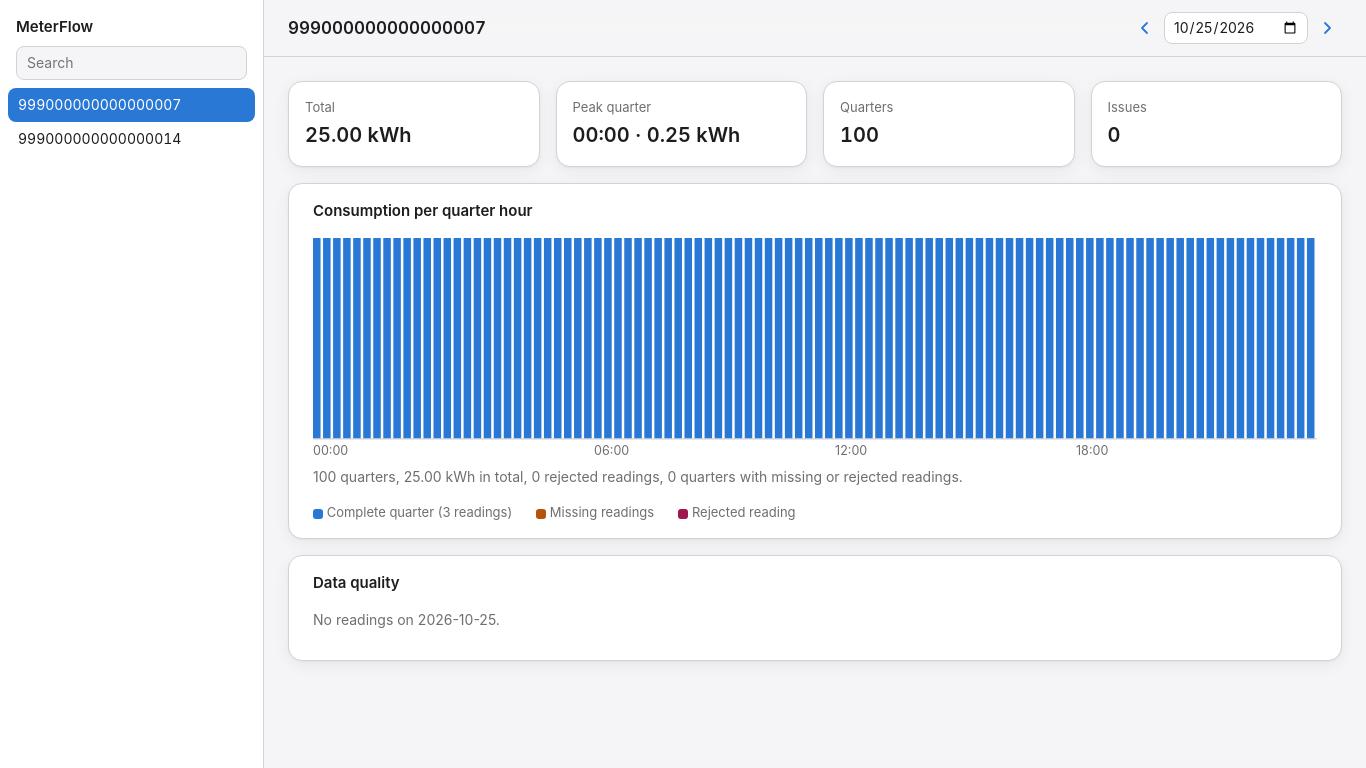
Test: App › moves one day back and forward with the day buttons
Expected: the icon named "100 quarters" is shown, [313,238,1317,459]
Click the button named "Next day" at [1327, 28], box [1312,13,1342,43]
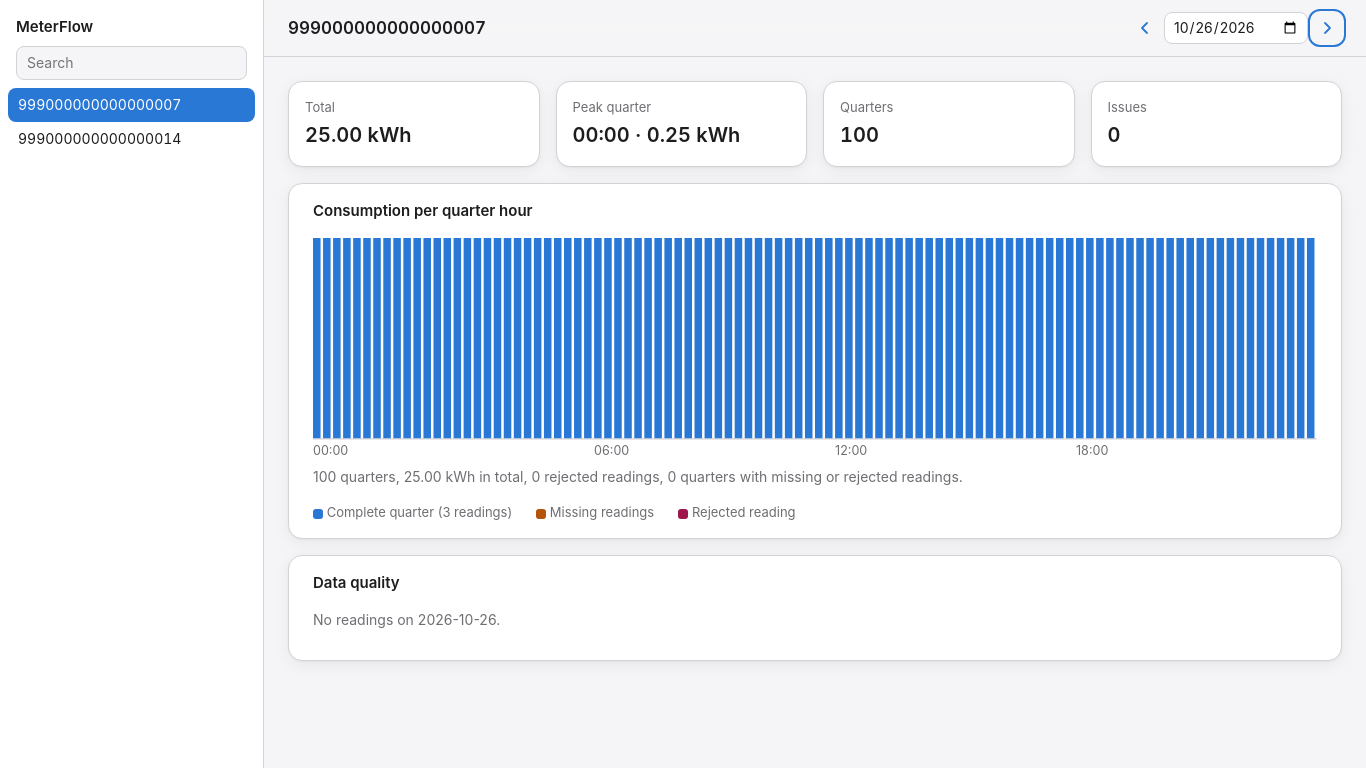
Expected: the date field named "Day" holds "2026-10-26", [1164,12,1308,44]
Click the button named "Previous day" at [1145, 28], box [1130,13,1160,43]
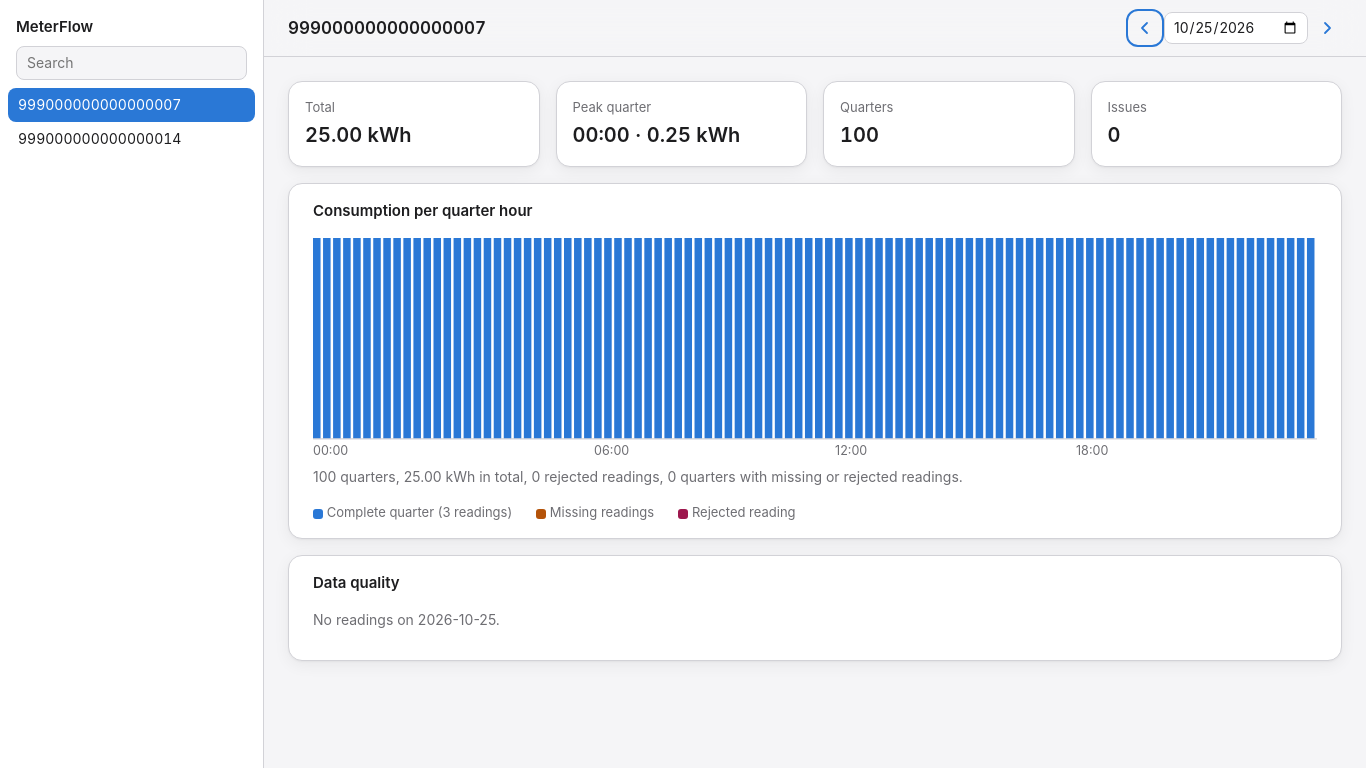
Click the button named "Previous day" at [1145, 28], box [1130,13,1160,43]
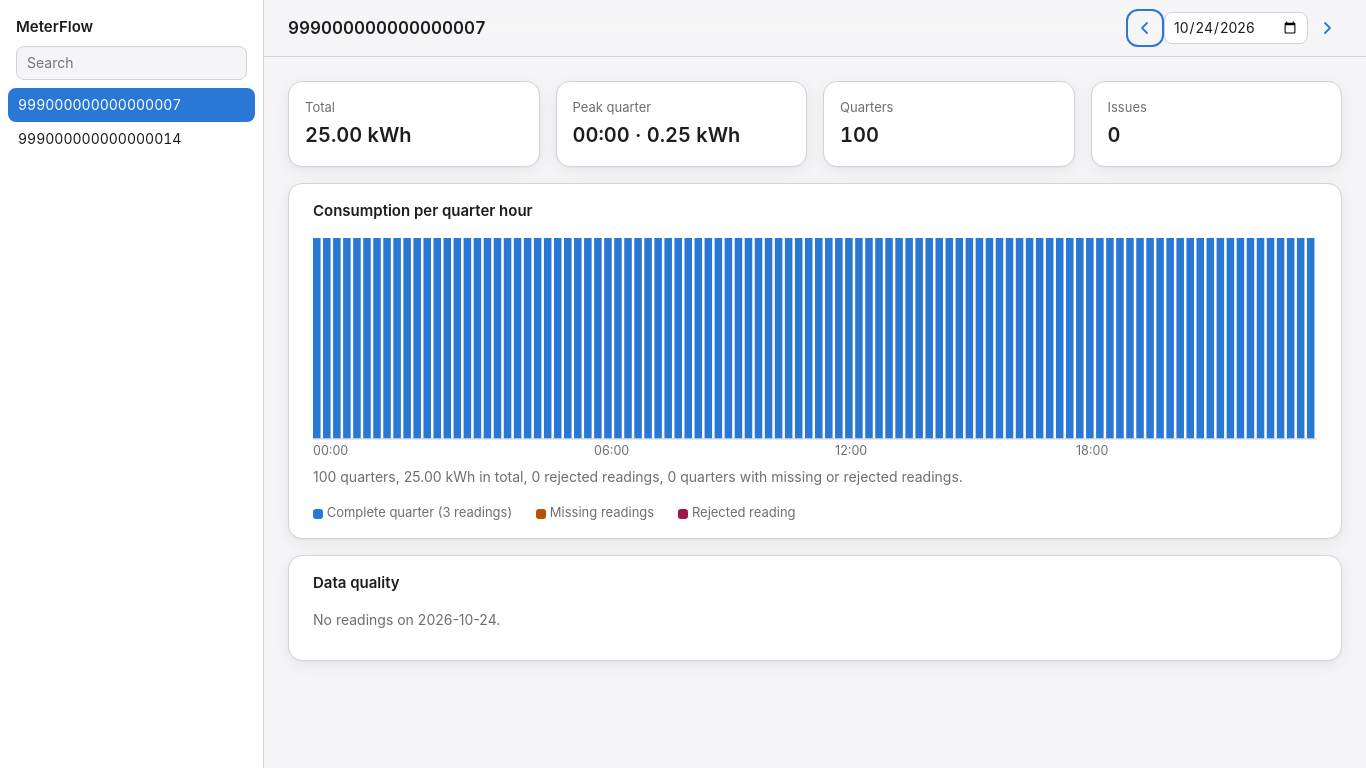
Expected: the date field named "Day" holds "2026-10-24", [1164,12,1308,44]
